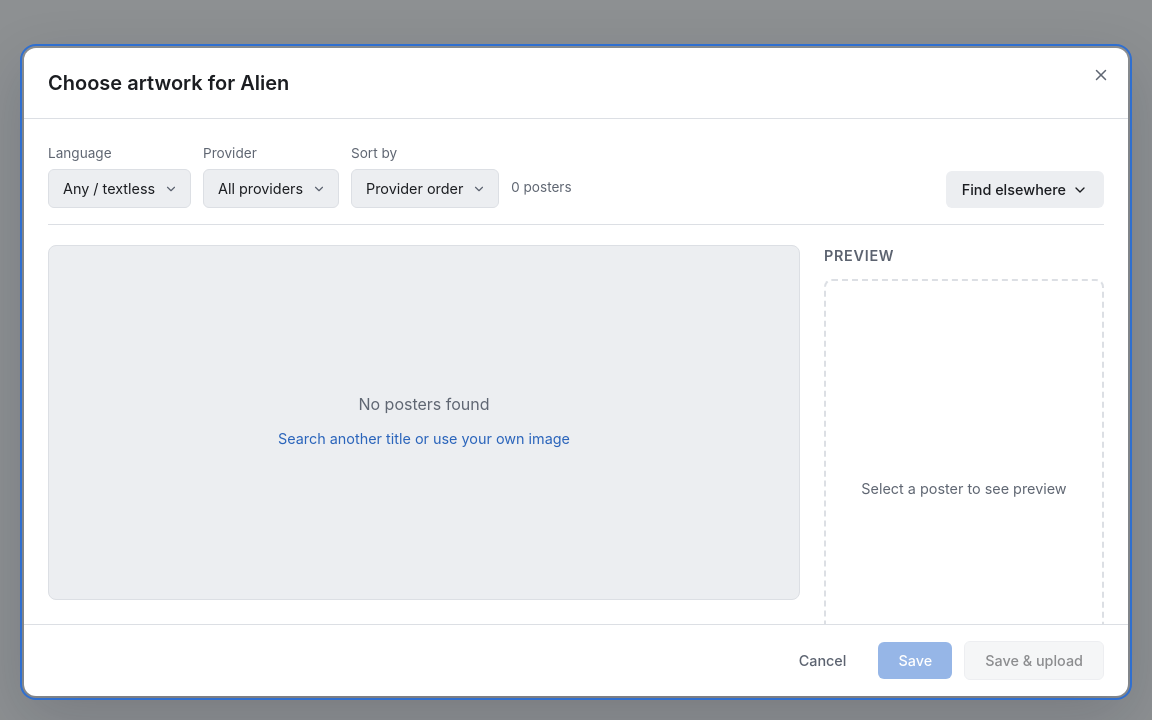
PosterBrowserModal — filling the grid › offers the folded ways out when the grid comes back empty
Click the button "Search another title or use your own image".
click(424, 439)  # box 268,424 -> 580,453
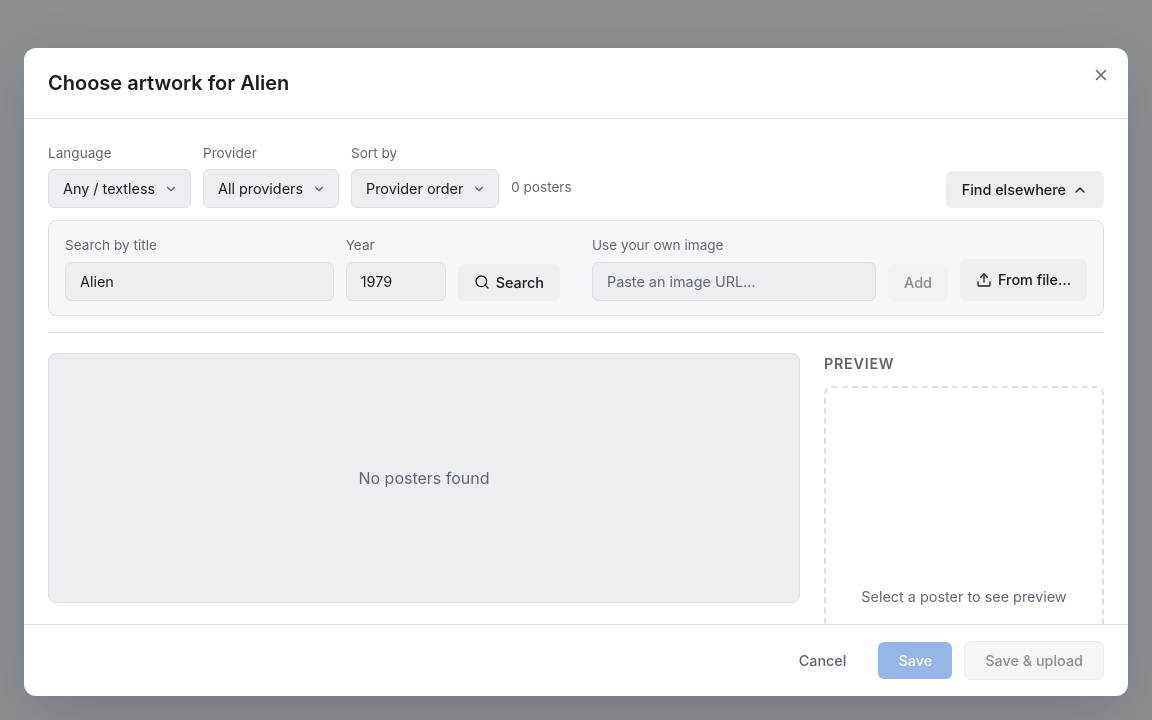
Check: the field labelled "Search by title" is shown, box 65,262 -> 334,301
